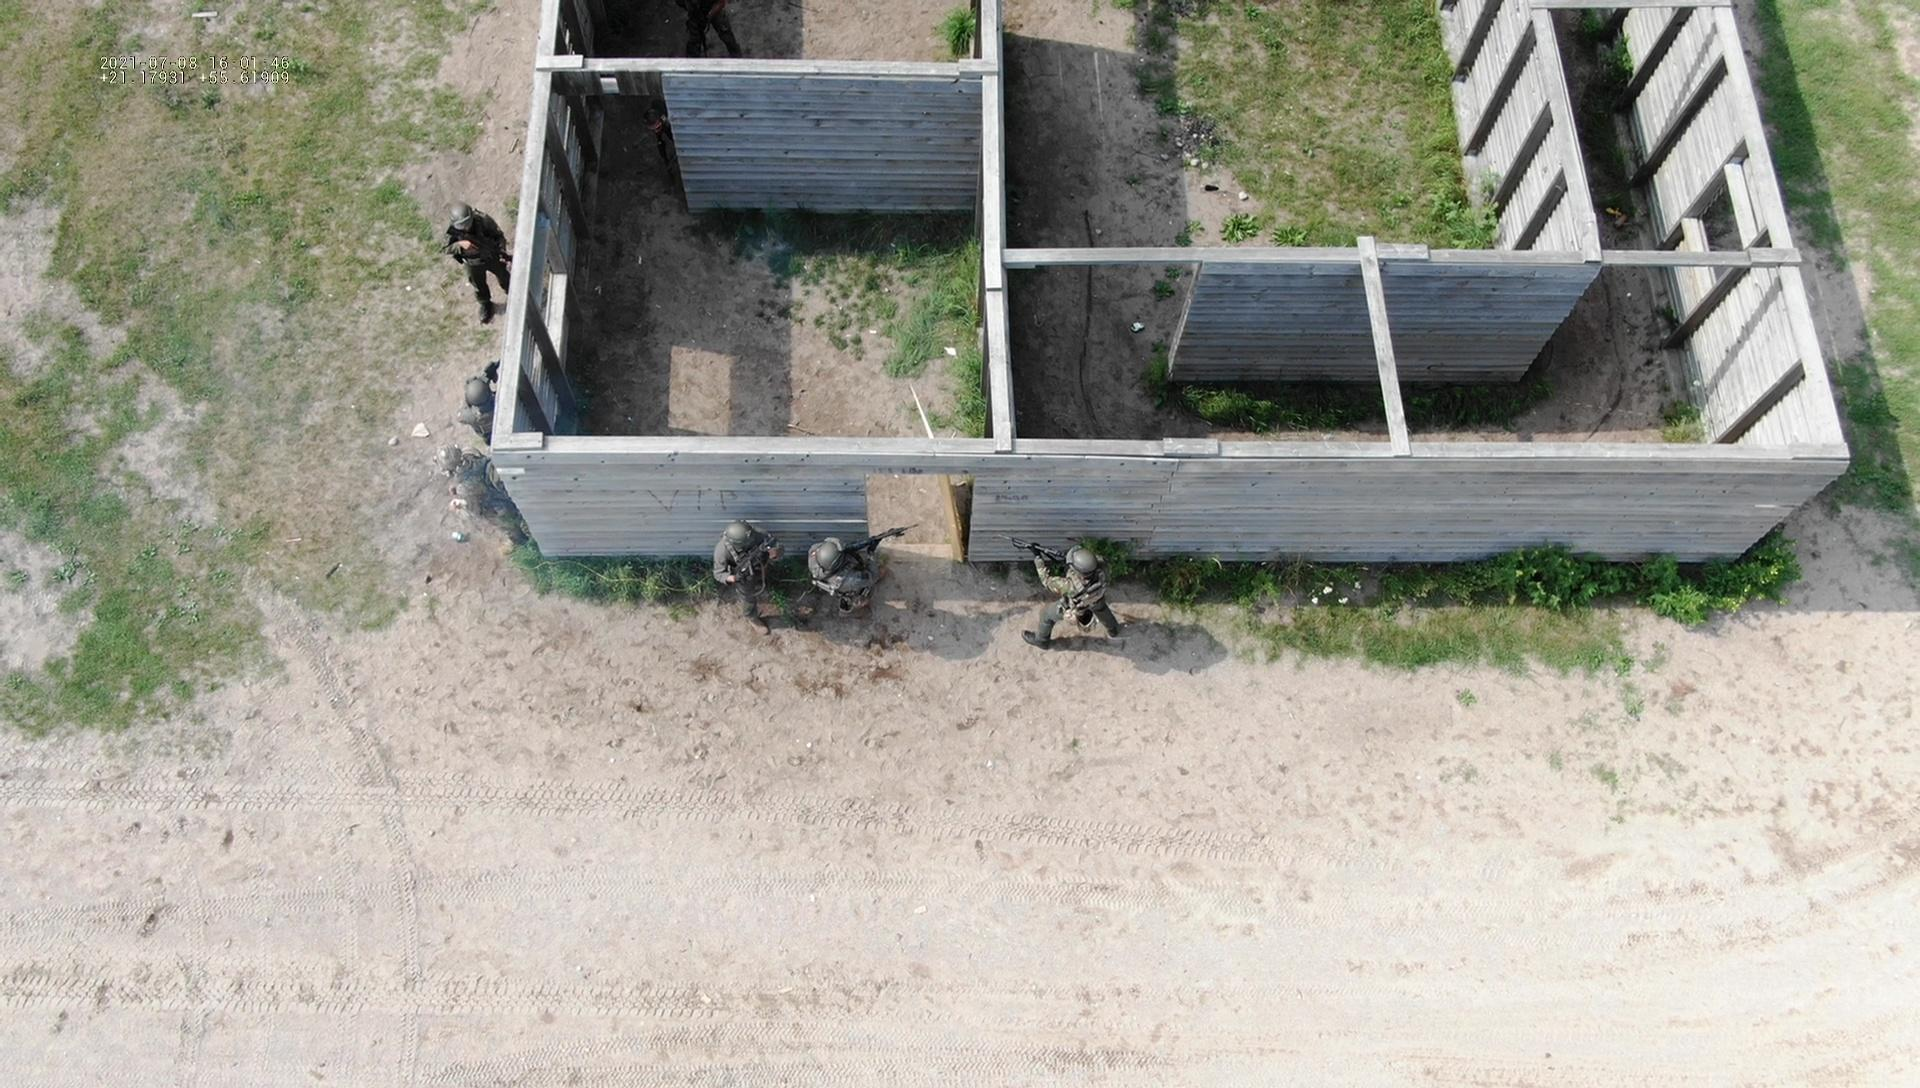Soldier: (1023, 505, 1126, 665), (444, 431, 546, 576), (793, 491, 886, 637), (436, 175, 520, 324), (720, 502, 818, 628), (458, 357, 498, 417)
